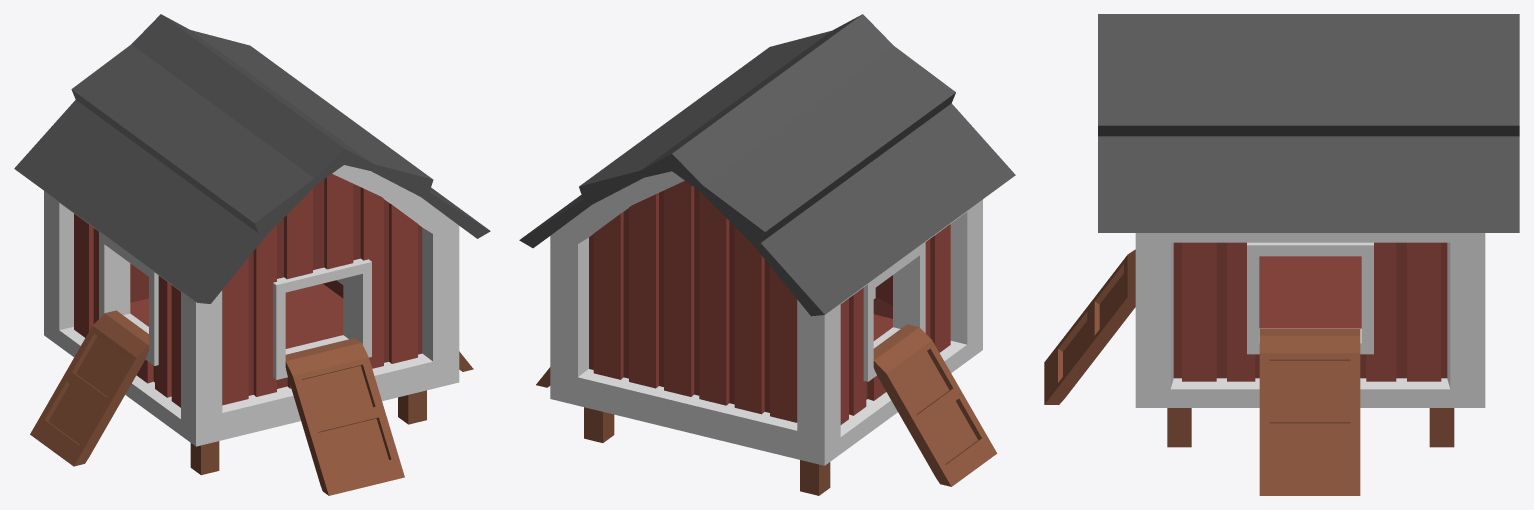
The model's file is ChickenCoop.glb.
3 views of the same model, side by side, from view 1: azimuth 30°, elevation 25°; view 2: azimuth 150°, elevation 25°; view 3: azimuth 270°, elevation 25° (orthographic). The views are drawn at different scales.
Parts seen in each view (by area): view 1: ChickenCoop; view 2: ChickenCoop; view 3: ChickenCoop.
Boxes of the visible parts, x1=… form: ChickenCoop: x1=14, y1=14, x2=490, y2=495; ChickenCoop: x1=519, y1=14, x2=1015, y2=495; ChickenCoop: x1=1044, y1=14, x2=1519, y2=495.
Size of the model in its own units: 2.41 by 1.85 by 2.15.
